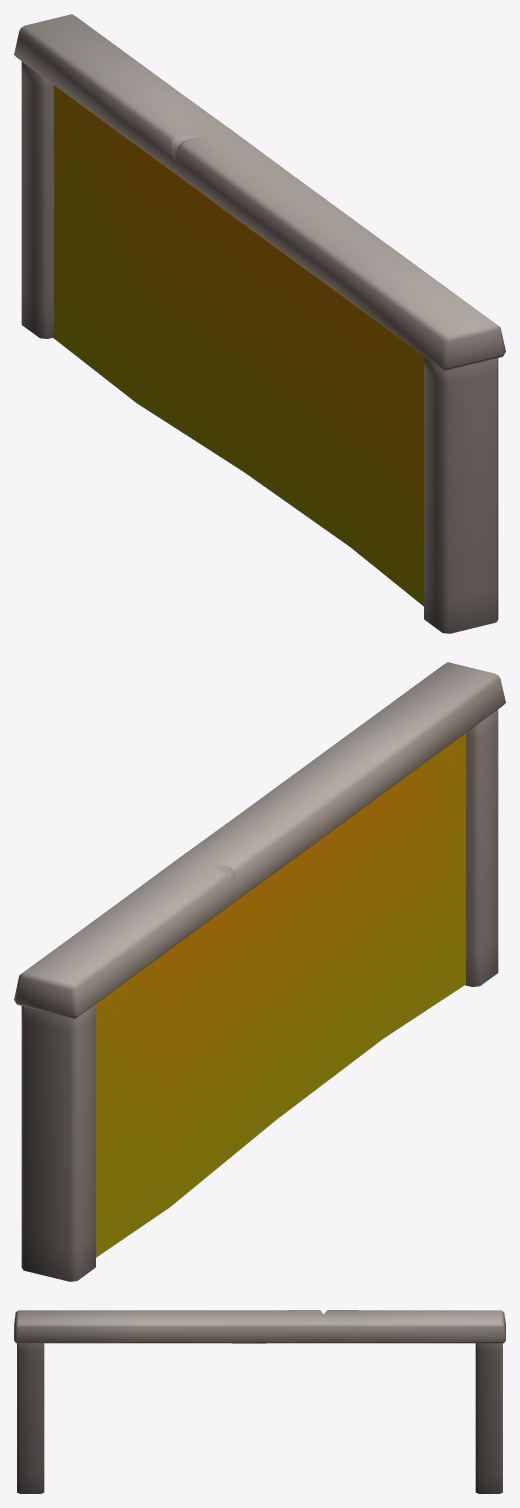
The model's file is BrickWall.glb.
3 renders of one model, top to bottom at view 1: azimuth 30°, elevation 25°; view 2: azimuth 150°, elevation 25°; view 3: azimuth 270°, elevation 25°, orthographic. The views are drawn at different scales.
Parts seen in each view (by area): view 1: BrickWall01; view 2: BrickWall01; view 3: BrickWall01.
Boxes of the visible parts, x1,y1,x2,y2 form: BrickWall01: (14, 14, 505, 633); BrickWall01: (14, 662, 505, 1281); BrickWall01: (14, 1310, 505, 1493).
Bounding box in the file's own units: 0.7885 × 3.52 × 9.12.
Materials: 2 (1 with a texture image).
